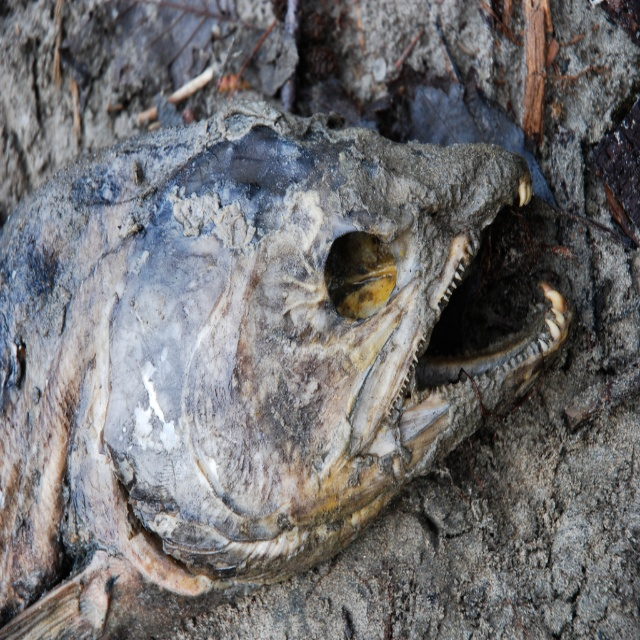Fish: (0, 88, 571, 639)
